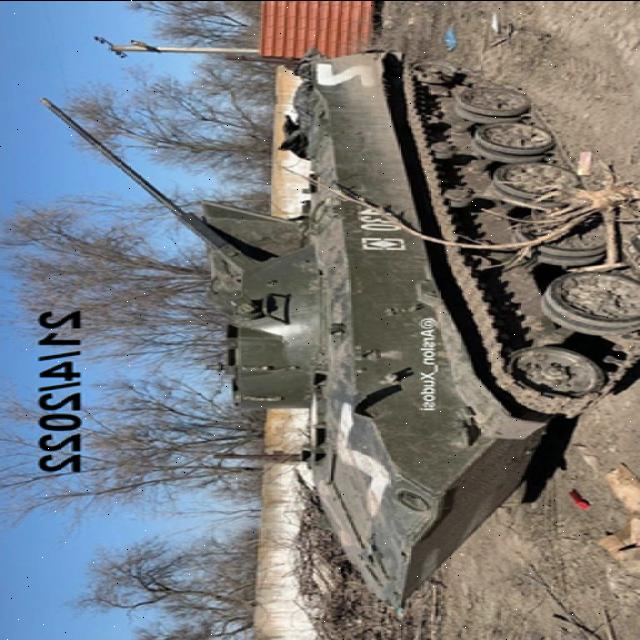APC-IFV: (35, 47, 640, 604)
